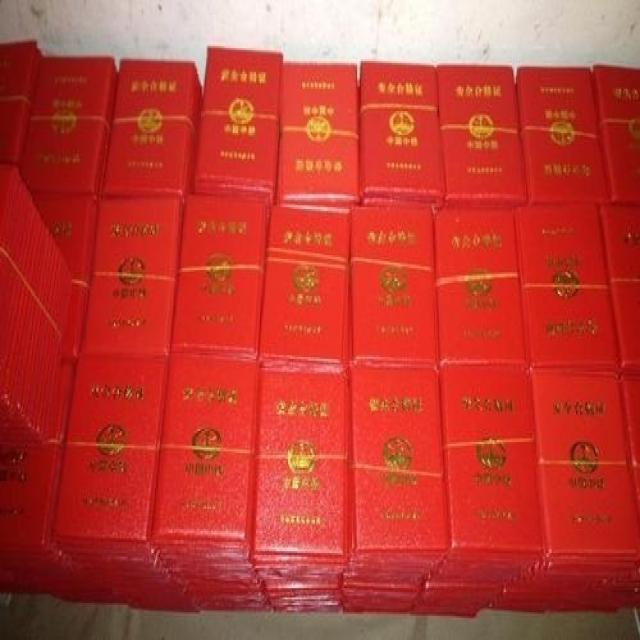box: (52, 351, 200, 612), (485, 374, 640, 612), (412, 366, 545, 618), (151, 351, 274, 612), (342, 366, 449, 614), (250, 370, 351, 614), (0, 363, 88, 603), (0, 165, 73, 448), (517, 202, 621, 377), (169, 192, 268, 361), (81, 196, 184, 355), (434, 207, 529, 372), (193, 46, 283, 220), (259, 205, 351, 374), (349, 205, 439, 370), (102, 57, 202, 202), (20, 55, 118, 200), (357, 63, 447, 215), (515, 67, 608, 207), (436, 65, 526, 207), (276, 63, 361, 213), (35, 196, 100, 368), (600, 203, 640, 377), (594, 65, 640, 203), (0, 39, 42, 168), (554, 557, 640, 612), (621, 377, 640, 516)
